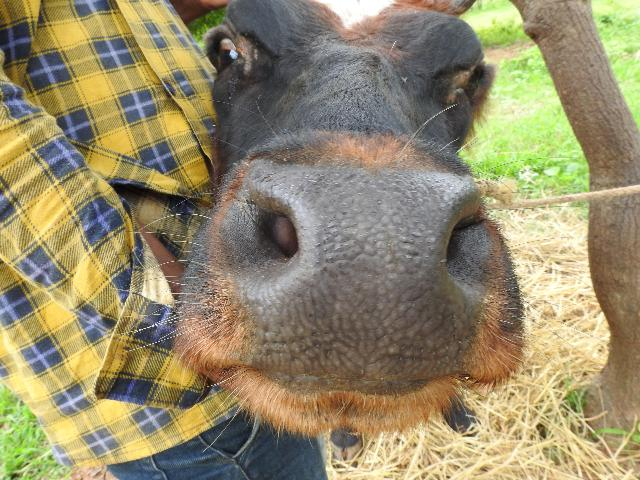Muzzle: (268, 168, 458, 370)
